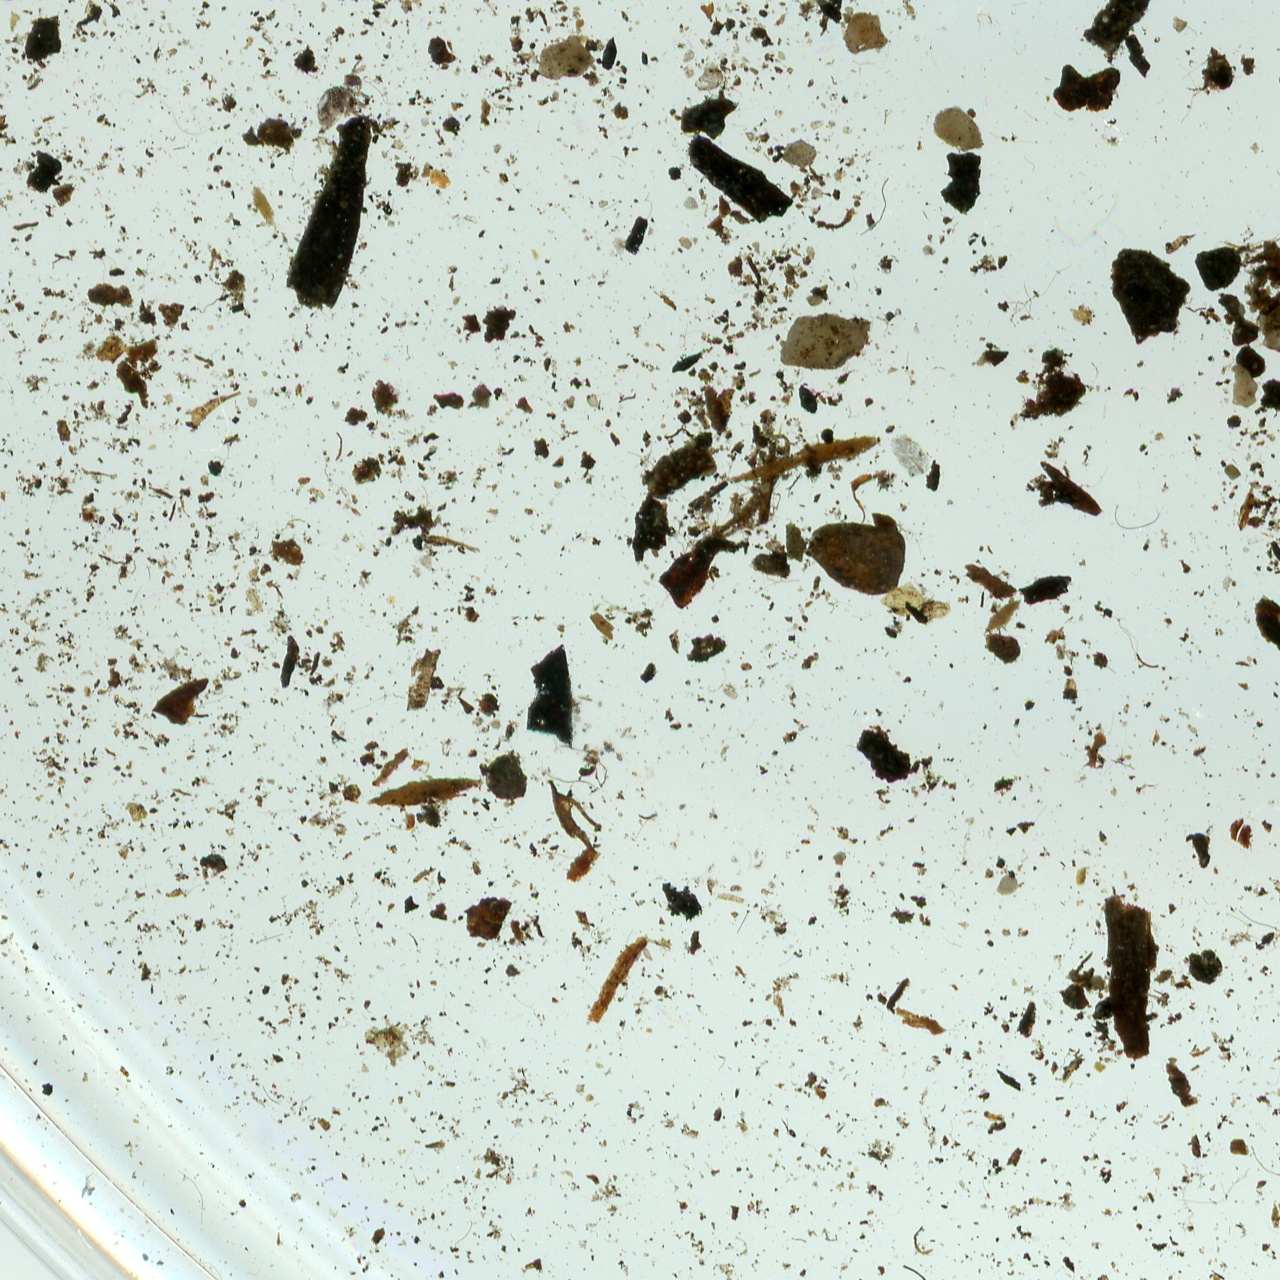arthropod: (303, 49, 389, 147)
